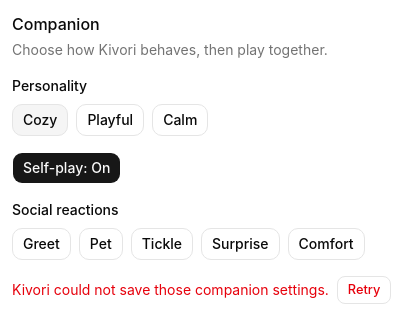
Test case: CompanionControls › catches a failed settings update and retries current settings
Expected: the message shows "could not save", [12, 281, 329, 298]
Click the button "Retry": (364, 290) [337, 276, 391, 304]
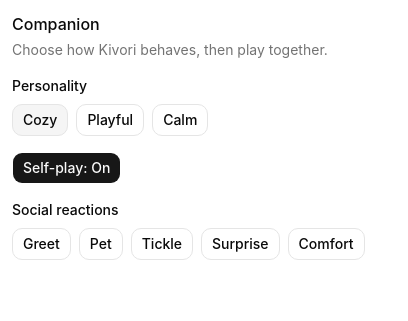
Expected: the text "could not save" is gone
